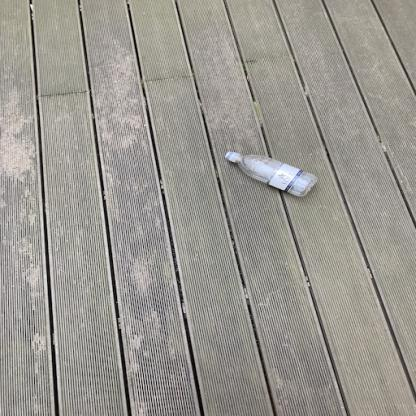trash: (225, 152, 318, 198)
